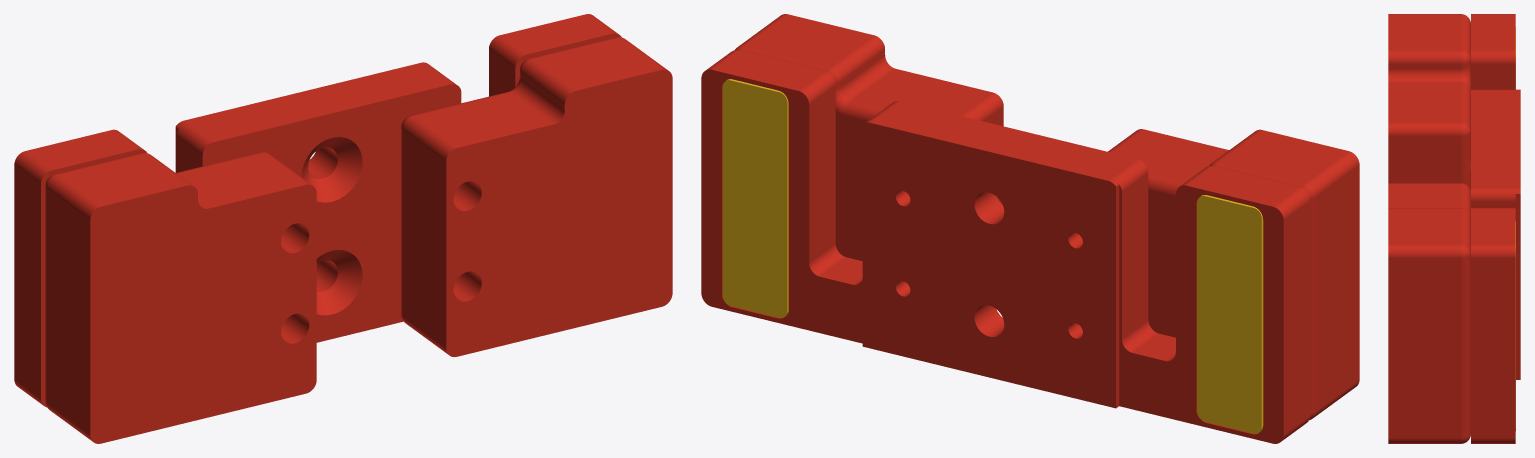
Rendered from HR-V0_J2_C07_pad-pocket-installed-screen.glb.
The picture shows the model from 3 angles, left to right: view 1: azimuth 30°, elevation 25°; view 2: azimuth 150°, elevation 25°; view 3: azimuth 270°, elevation 25°; orthographic projection. The views are drawn at different scales.
Visible parts, largest first — view 1: MV0-C07_POCKETED_METAL_BACKUP; view 2: MV0-C07_POCKETED_METAL_BACKUP, PAD_SR1_2_NOMINAL_SCREEN, PAD_SR1_1_NOMINAL_SCREEN; view 3: MV0-C07_POCKETED_METAL_BACKUP, PAD_SR1_2_NOMINAL_SCREEN.
Part boxes in pixels (x1,y1,x2,y2): MV0-C07_POCKETED_METAL_BACKUP: (14, 14, 672, 443); MV0-C07_POCKETED_METAL_BACKUP: (701, 14, 1359, 443); PAD_SR1_2_NOMINAL_SCREEN: (722, 79, 788, 317); PAD_SR1_1_NOMINAL_SCREEN: (1197, 195, 1263, 433); MV0-C07_POCKETED_METAL_BACKUP: (1388, 14, 1520, 443); PAD_SR1_2_NOMINAL_SCREEN: (1515, 221, 1515, 430).
Bounding box in the file's own units: 108 × 42 × 25.4.
